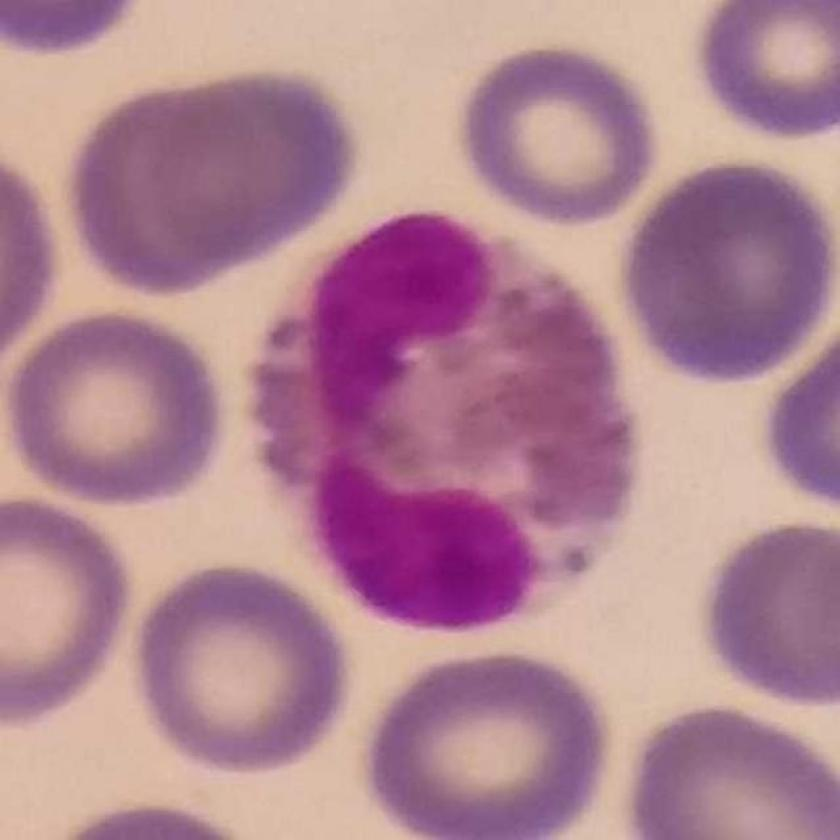eosinophil: (247, 214, 644, 634)
